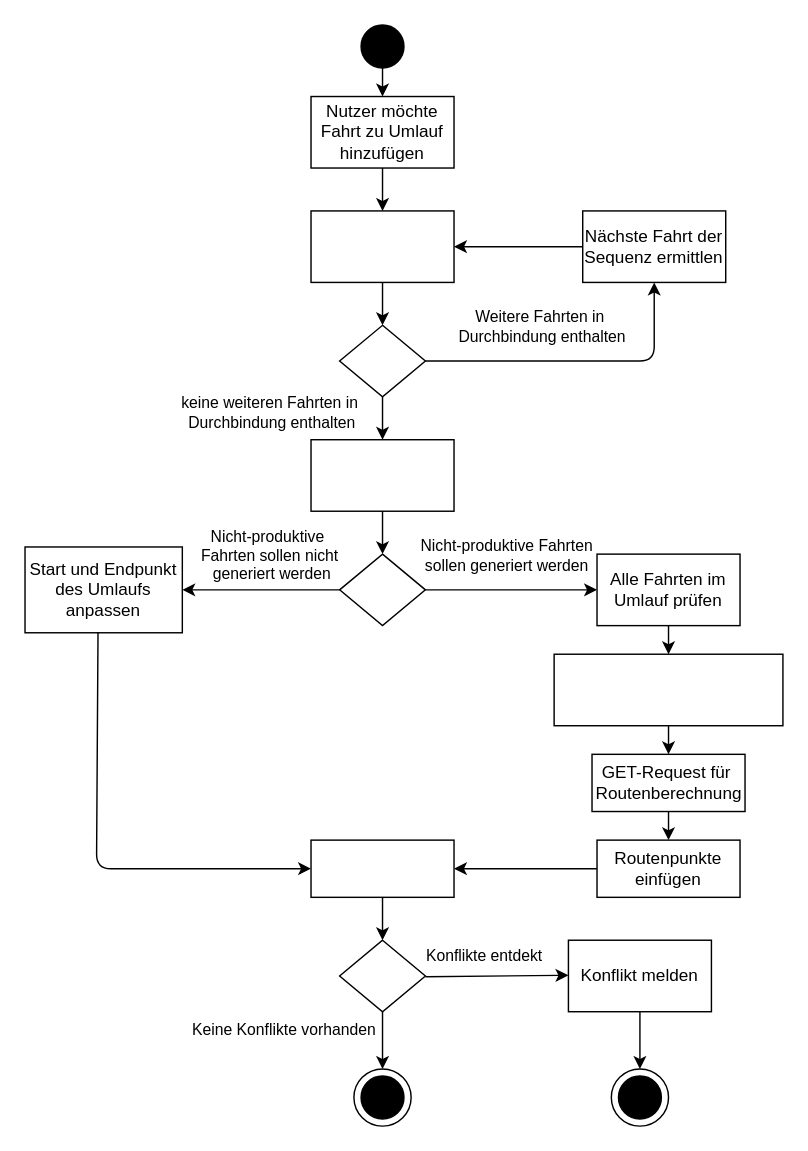
Image size: 808x1151. Some labels were removed from this diagram. Each missing label, with the centre of its shape:
"TripNr"- Fremdschlüssel für Fahrt setzen: point (382, 245)
Benötigte Sonderfahrten generieren / Bestehende sonderfahrten anpassen: point (668, 689)
Nutzer-einstellungen auslesen: point (382, 474)
Zeitkonflikte ermitteln: point (382, 868)
